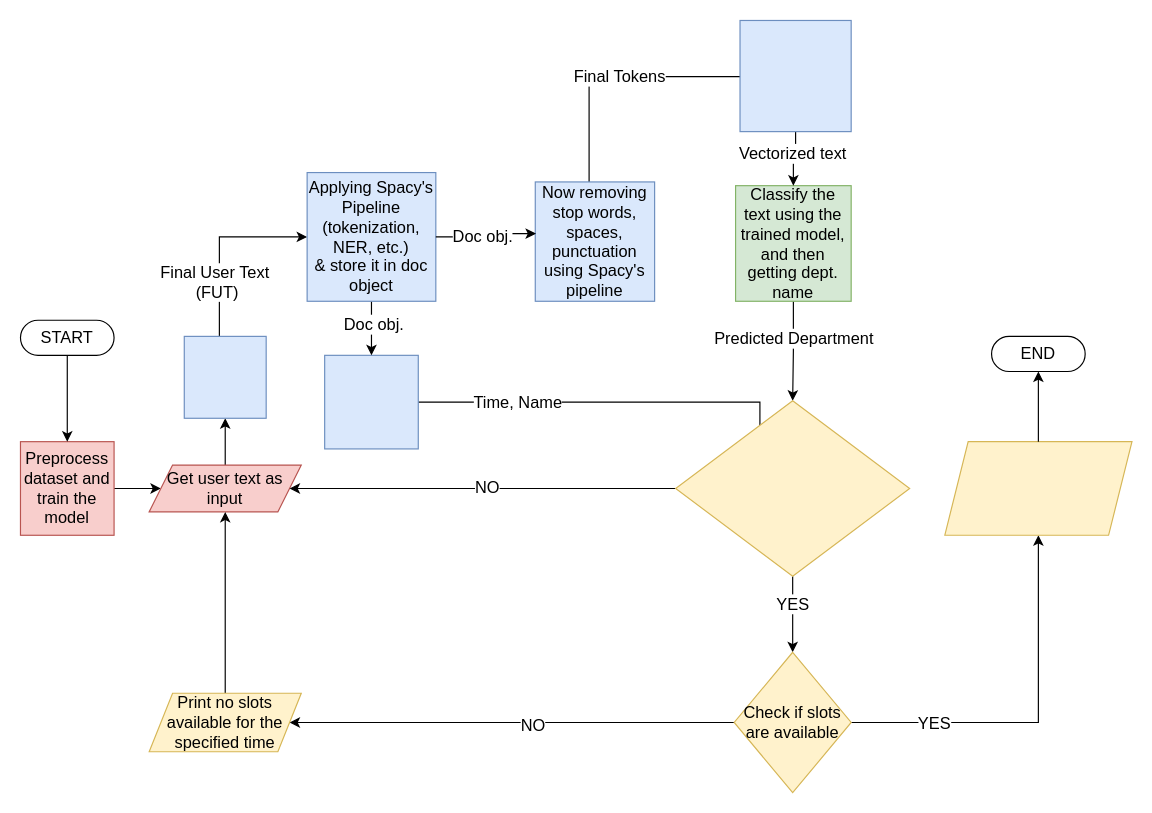
This 1152x813 diagram has some shape labels left out. The centre of each missing label's shape, as x and y in pixels:
Confirm if user want’s to continue booking with the current information: (792,488)
Get Name and Time entities: (371,401)
Preprocess User text: (224,376)
Print the Doctor's Appointment Receipt: (1038,488)
Vectorizing final tokens using TfidfVectorizer: (795,75)
